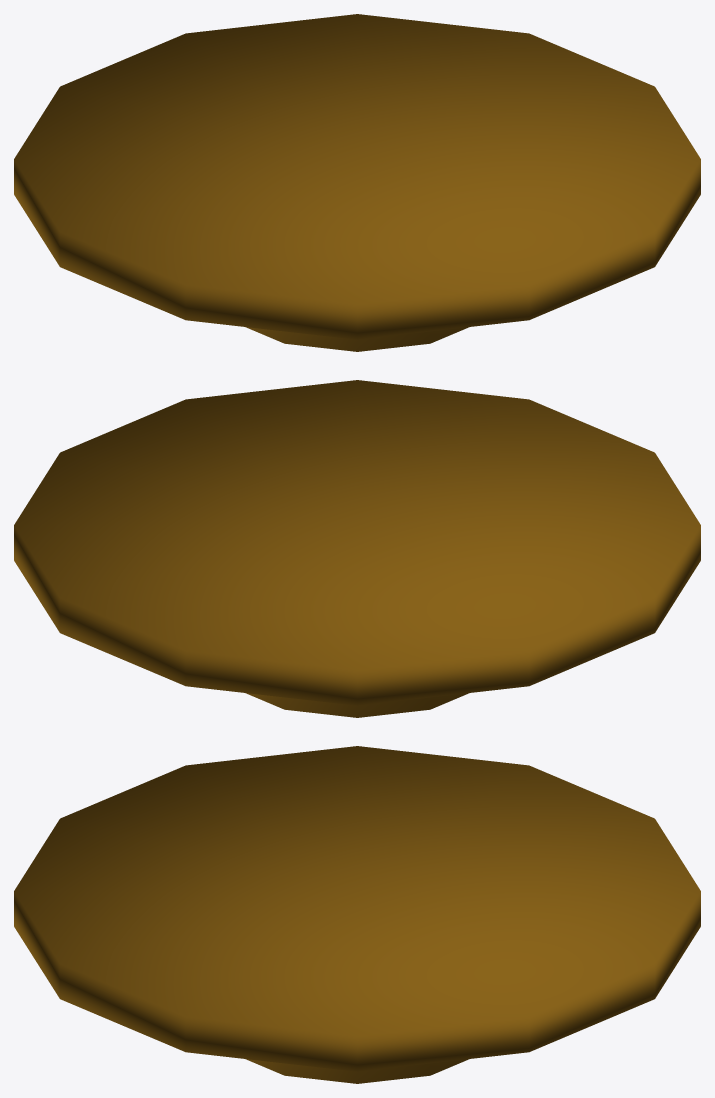
The model's file is GearBlocker.glb.
3 views of the same model, one above another, from view 1: azimuth 30°, elevation 25°; view 2: azimuth 150°, elevation 25°; view 3: azimuth 270°, elevation 25° (orthographic).
Visible parts, largest first — view 1: GearBlocker; view 2: GearBlocker; view 3: GearBlocker.
Part boxes in pixels (box(x1,y1,x2,y2)): GearBlocker: box(14, 14, 700, 351); GearBlocker: box(14, 380, 700, 717); GearBlocker: box(14, 746, 700, 1083).
Bounding box in the file's own units: 0.3851 × 0.0811 × 0.3851.
